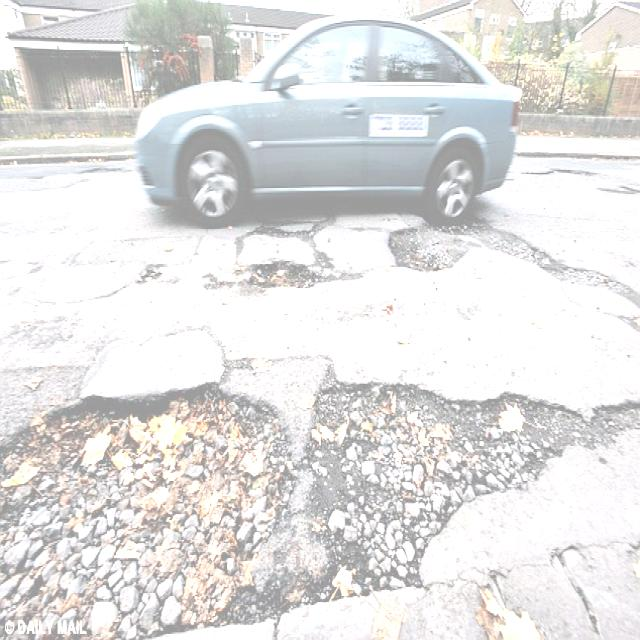Pothole: (0, 312, 640, 640), (194, 232, 636, 328)
